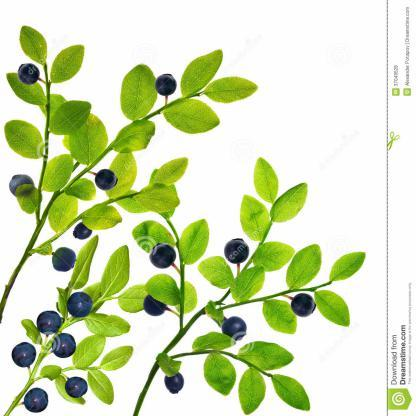Blueberry leaf: (179, 46, 231, 98), (95, 240, 134, 304), (270, 180, 326, 224), (235, 338, 309, 368), (164, 100, 224, 136), (310, 288, 359, 332), (118, 60, 154, 118), (66, 233, 101, 291), (146, 152, 194, 193), (284, 244, 328, 288), (270, 372, 314, 416), (202, 75, 261, 106), (48, 43, 88, 88), (132, 182, 180, 218), (182, 214, 215, 266), (203, 350, 237, 400), (230, 266, 272, 306), (250, 152, 282, 204), (78, 201, 126, 235), (16, 24, 53, 68), (261, 296, 298, 340), (239, 192, 270, 244), (2, 122, 42, 162), (50, 100, 94, 136), (252, 238, 295, 274), (45, 188, 80, 232), (237, 366, 268, 415), (142, 272, 184, 308), (113, 119, 158, 152), (43, 152, 80, 192), (327, 250, 370, 284), (192, 254, 232, 290), (71, 332, 108, 369), (86, 367, 116, 412), (85, 312, 132, 340), (100, 345, 136, 372)
